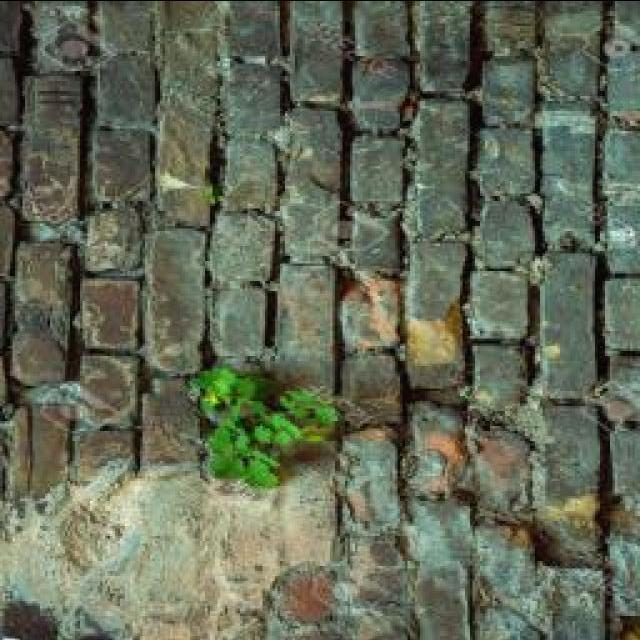crack: (1, 1, 638, 637), (260, 0, 294, 401), (200, 0, 234, 374), (409, 104, 473, 231), (155, 101, 222, 222), (537, 114, 599, 233), (291, 4, 356, 109), (9, 400, 72, 500), (205, 208, 281, 288), (153, 1, 227, 82), (17, 138, 86, 224), (525, 0, 547, 265), (412, 2, 477, 91), (283, 106, 345, 196), (219, 129, 285, 213), (87, 126, 155, 207), (208, 282, 274, 364), (12, 238, 77, 320), (589, 0, 609, 265), (93, 54, 160, 133), (348, 134, 412, 215), (276, 187, 342, 264), (222, 62, 287, 140), (31, 2, 102, 72), (473, 198, 538, 274), (350, 58, 414, 134), (476, 123, 539, 200), (22, 72, 87, 145), (343, 203, 406, 277), (8, 321, 72, 388), (93, 2, 161, 64), (480, 56, 539, 127), (544, 47, 603, 116), (352, 2, 416, 65), (226, 2, 286, 65), (542, 3, 606, 56), (483, 3, 541, 60), (601, 128, 640, 208), (602, 46, 640, 123), (605, 215, 640, 276)
dampness: (5, 4, 159, 502)
vegetation: (185, 362, 341, 489), (121, 585, 243, 639), (189, 366, 266, 423), (604, 22, 640, 57)
